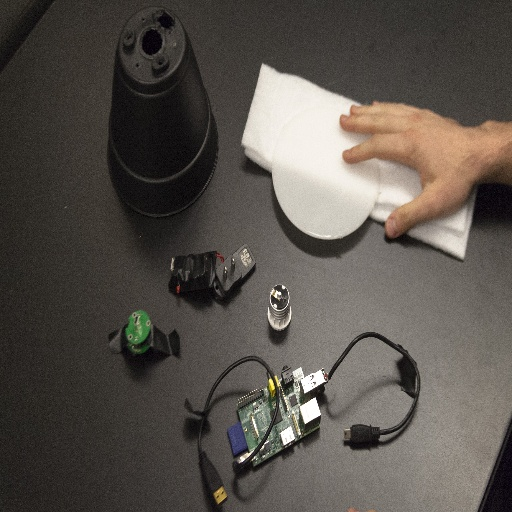hand: (351, 92, 509, 261)
